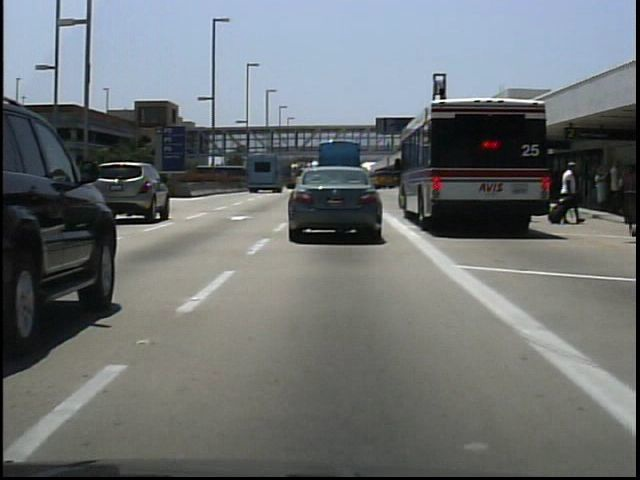person: (557, 156, 584, 228), (383, 137, 396, 157)
